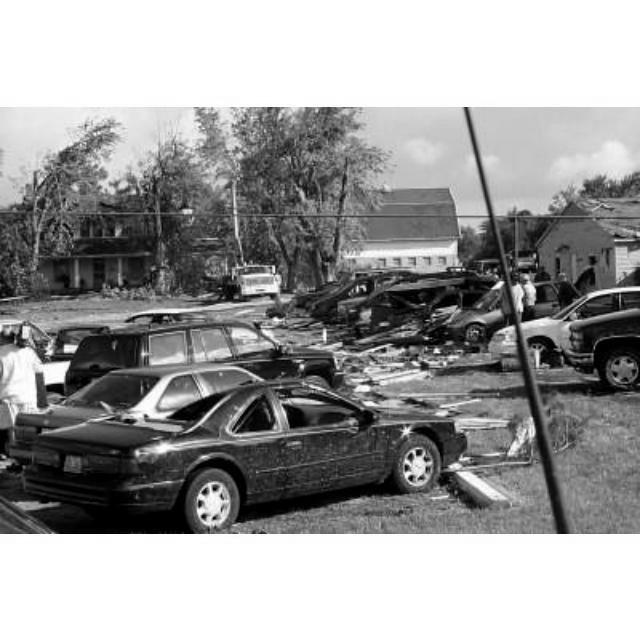Rear-windscreen-Damage: (148, 393, 228, 431)
